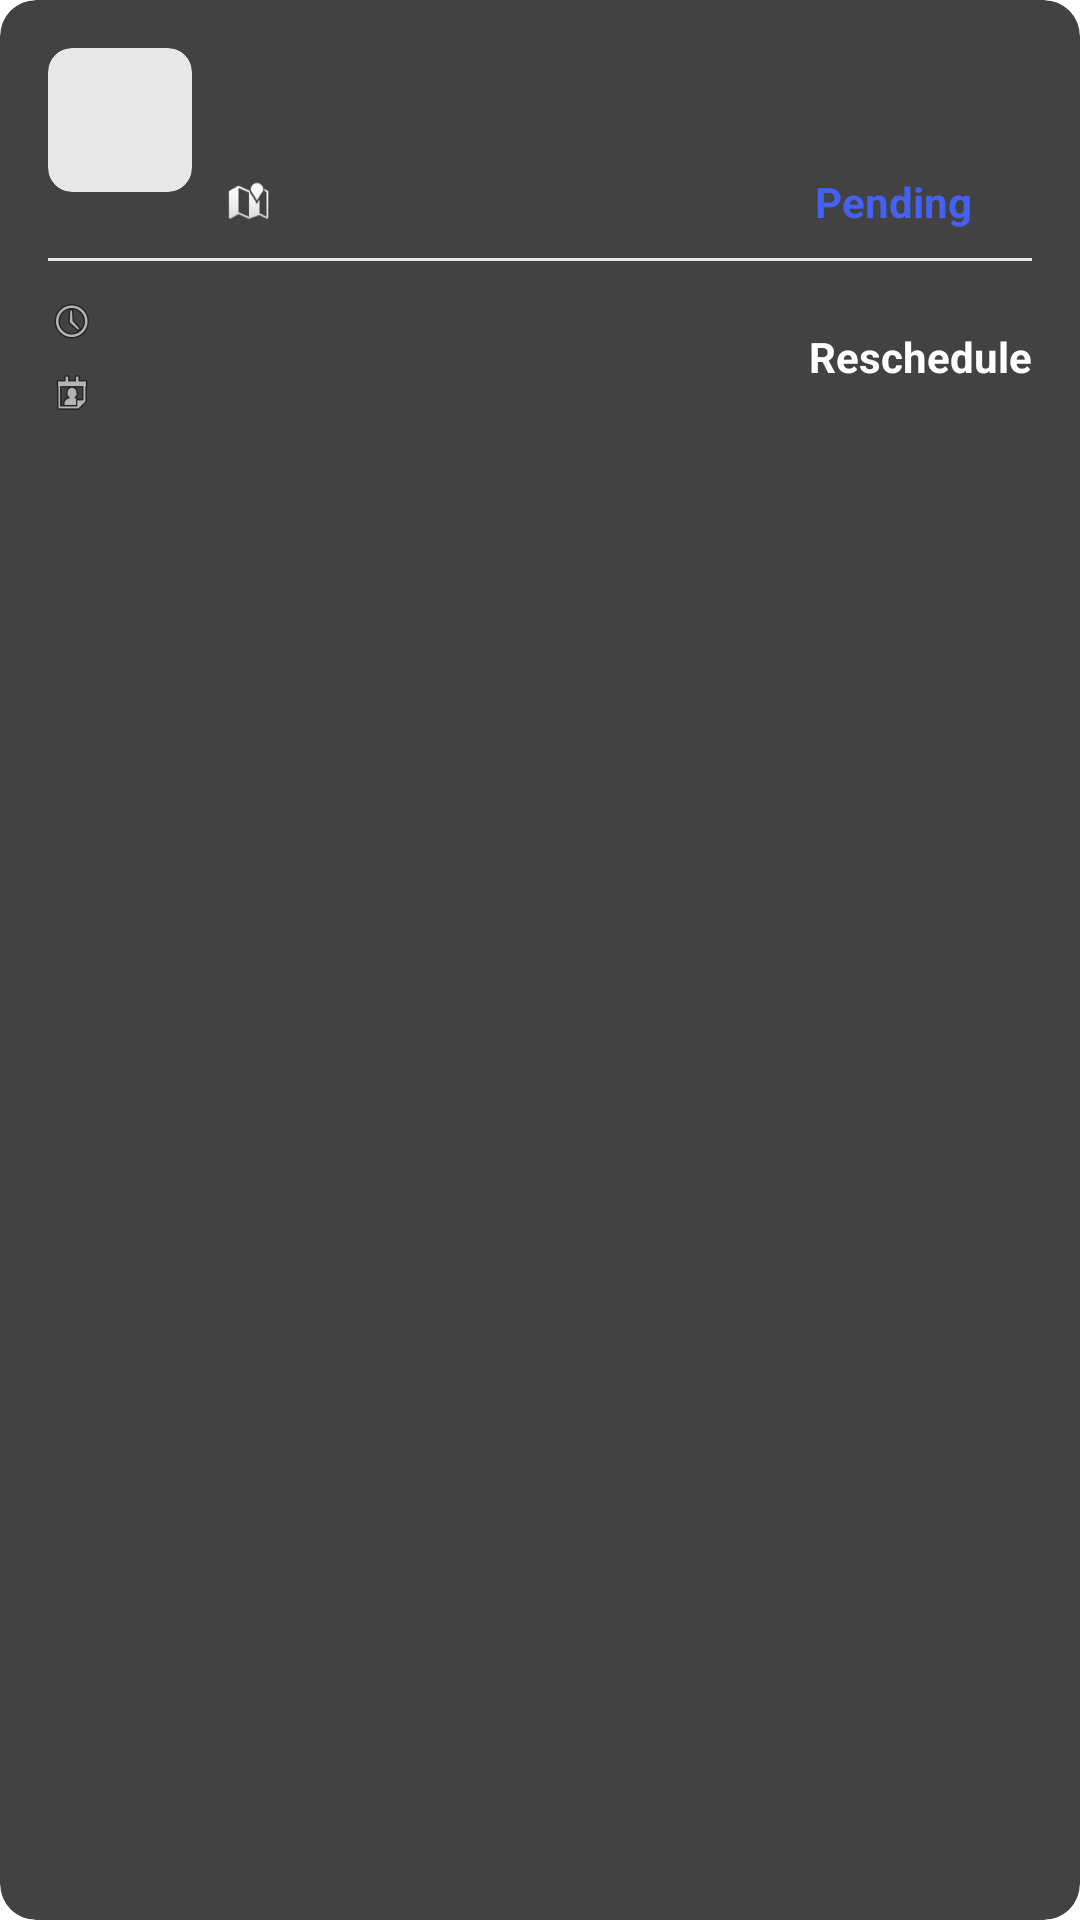

Point at icon controls on the screen. Image size 1080*1920, points as (x,y).
calendar: (72,392)
map: (248,200)
recent history: (72,321)
